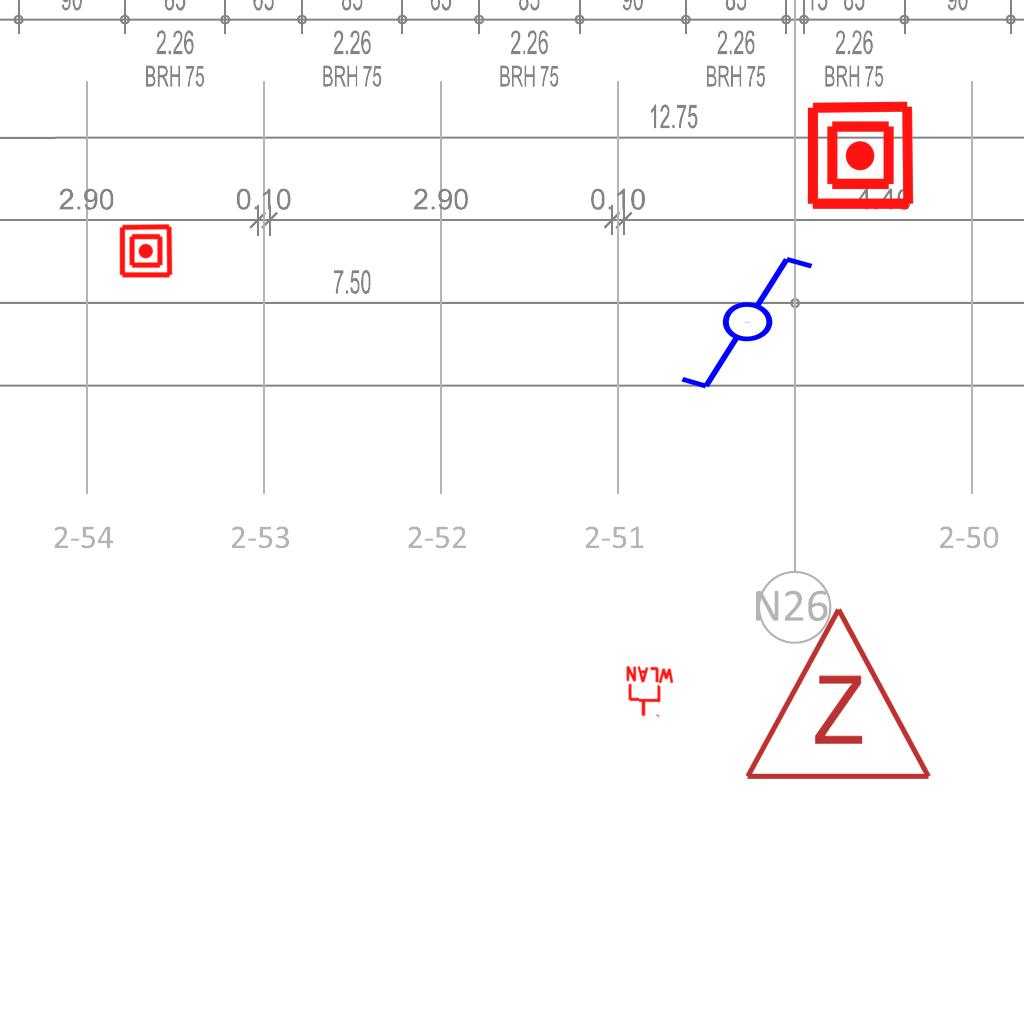NAM-Nichtautomatischer_Melder: (804, 99, 917, 212), (118, 223, 174, 279)
WLAN: (621, 664, 677, 720)
Wechselschalter: (677, 252, 834, 396)
Zimmersignalleuchte: (738, 594, 934, 794)
